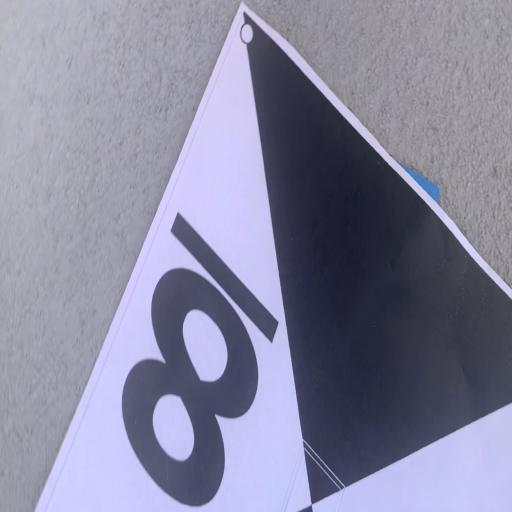target8: (34, 0, 512, 512)
